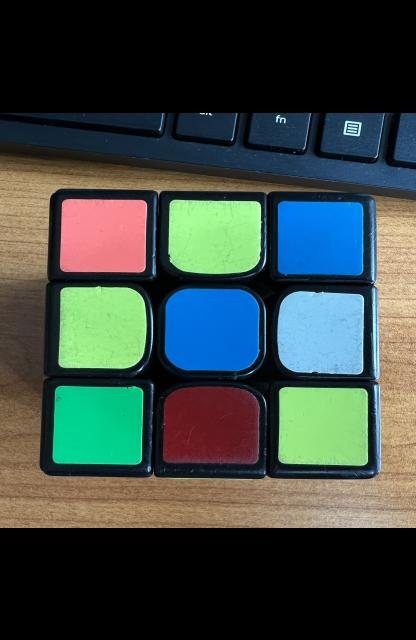Blue: (164, 288, 259, 370), (278, 200, 363, 274)
Green: (53, 385, 143, 464)
Orange: (59, 198, 147, 271)
Red: (163, 385, 259, 463)
White: (277, 290, 364, 373)
Yellow: (58, 285, 147, 368), (278, 386, 368, 465), (168, 199, 262, 273)
